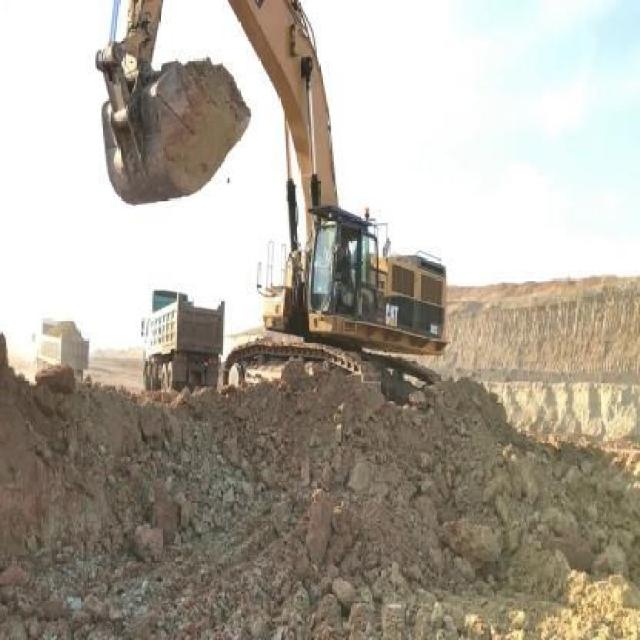dump_truck: (139, 289, 224, 394), (32, 319, 88, 378)
excavator: (94, 0, 448, 405)
